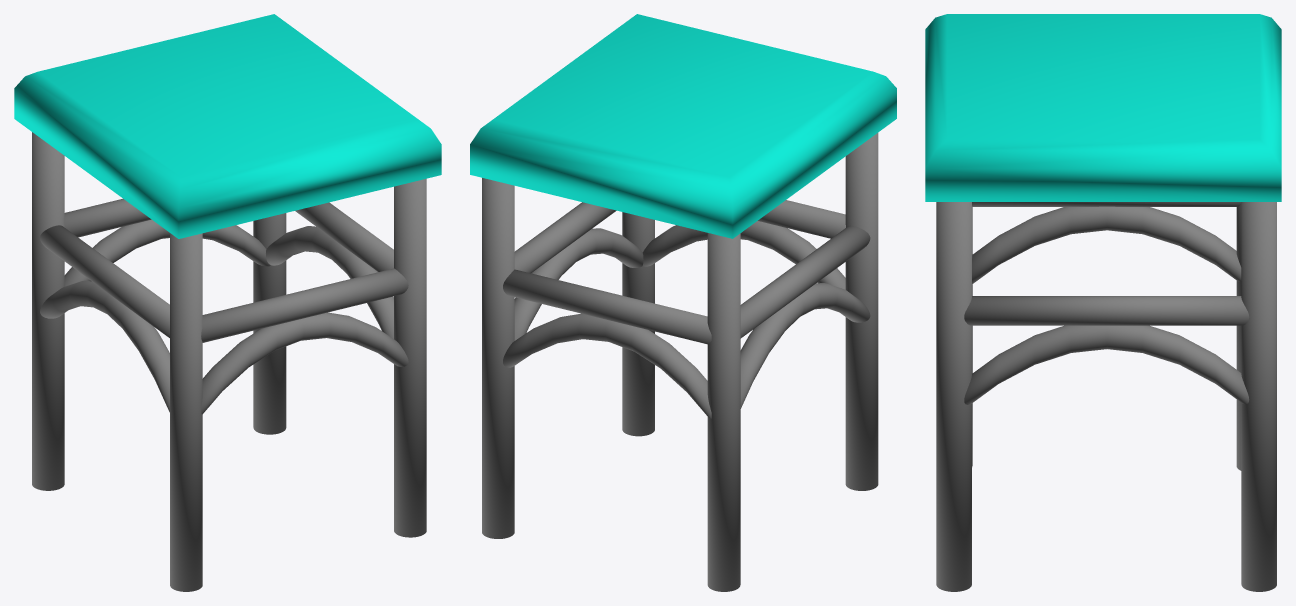
The model's file is chair_tier8.fbx.
The picture shows the model from 3 angles, left to right: view 1: azimuth 30°, elevation 25°; view 2: azimuth 150°, elevation 25°; view 3: azimuth 270°, elevation 25°; orthographic projection. The views are drawn at different scales.
Parts seen in each view (by area): view 1: Cylinder.001, Cube; view 2: Cylinder.001, Cube; view 3: Cube, Cylinder.001.
Part boxes in pixels (box(x1,y1,x2,y2)): Cylinder.001: box(32, 132, 426, 591); Cube: box(14, 14, 441, 238); Cylinder.001: box(482, 133, 878, 591); Cube: box(470, 14, 896, 238); Cube: box(925, 14, 1281, 201); Cylinder.001: box(936, 202, 1276, 591).
Bounding box in the file's own units: 40.19 × 60.21 × 43.46.
